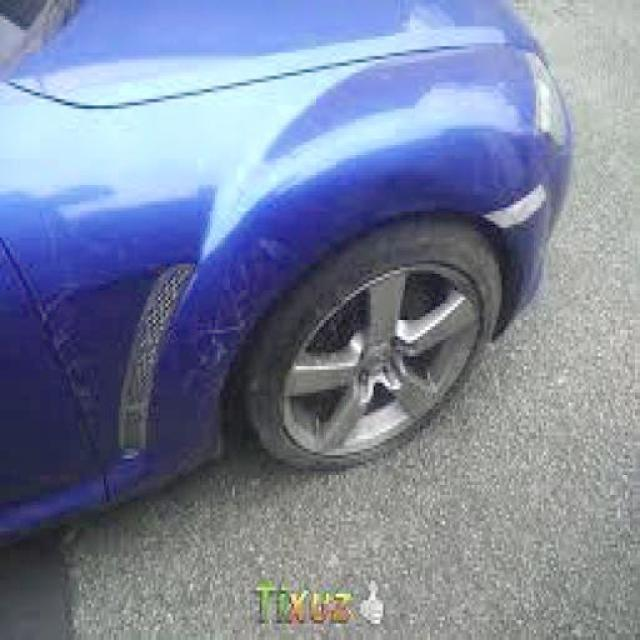car damage: (187, 226, 317, 420), (35, 278, 109, 430)
